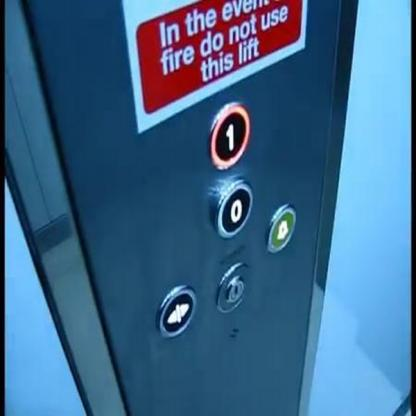0: (208, 174, 252, 238)
1: (208, 99, 250, 171)
alarm: (264, 202, 296, 252)
keyhole: (213, 259, 250, 311)
open: (156, 283, 198, 336)
